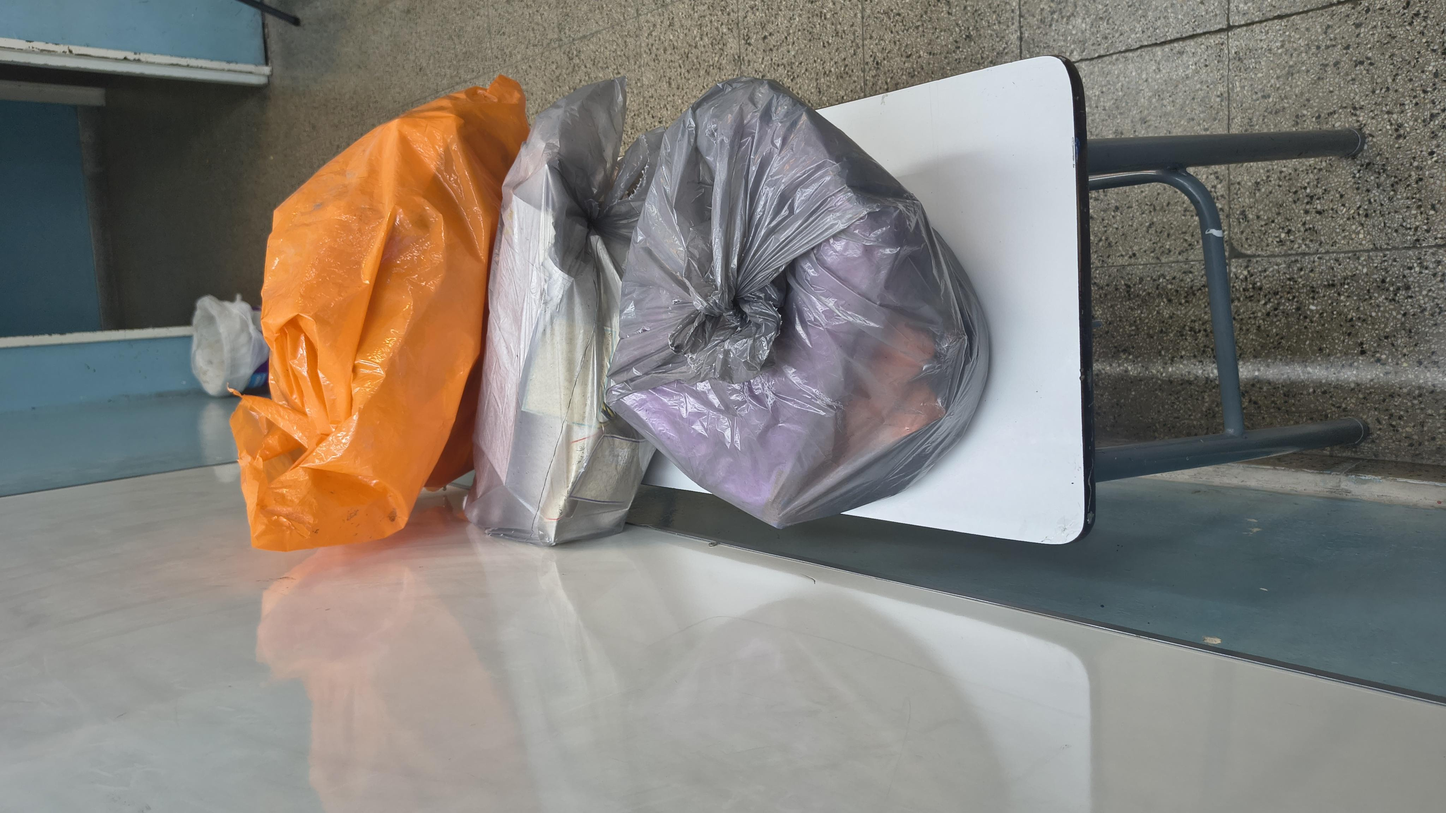Garbage: (490, 331, 1356, 562), (427, 121, 1374, 302), (446, 256, 1343, 381)
